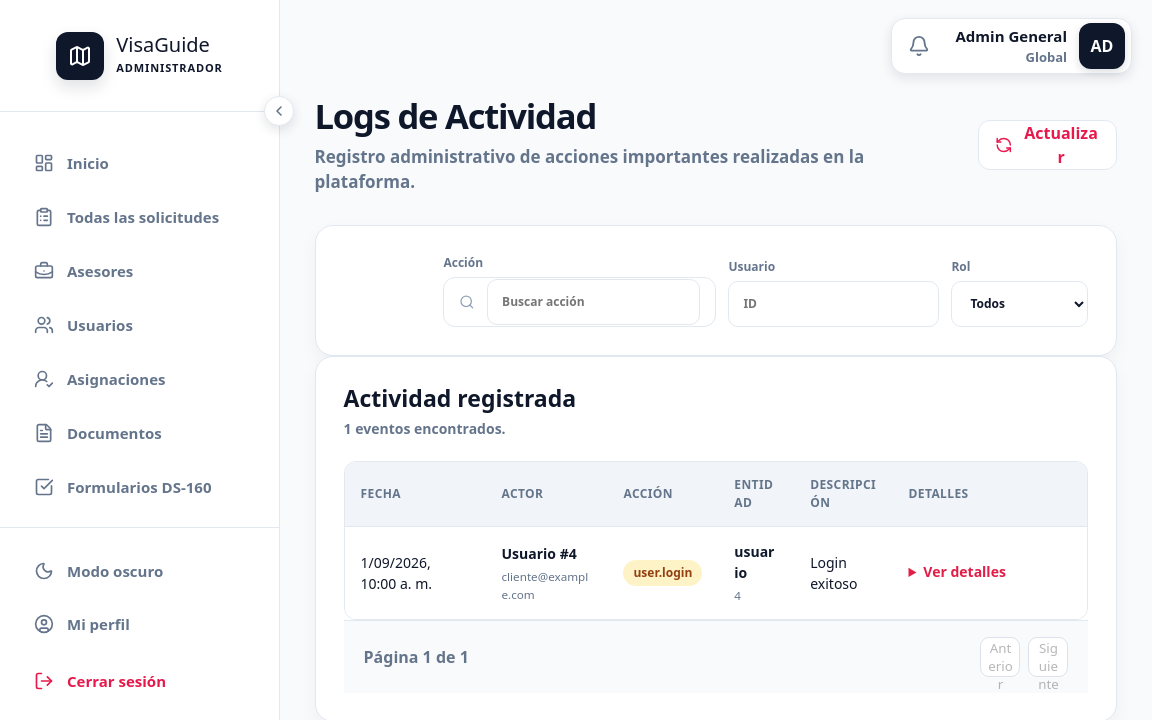
it: panel de administracion › muestra la consulta de logs de actividad
Expected: the heading "Logs de Actividad" is shown, [314, 92, 596, 139]
Expected: the text "user.login" is shown, [624, 560, 702, 586]
What coordinates should you click on to do the following:
click the heading "Ver detalles"
I would click on:
 (965, 572)
Its box is [923, 562, 1006, 581].
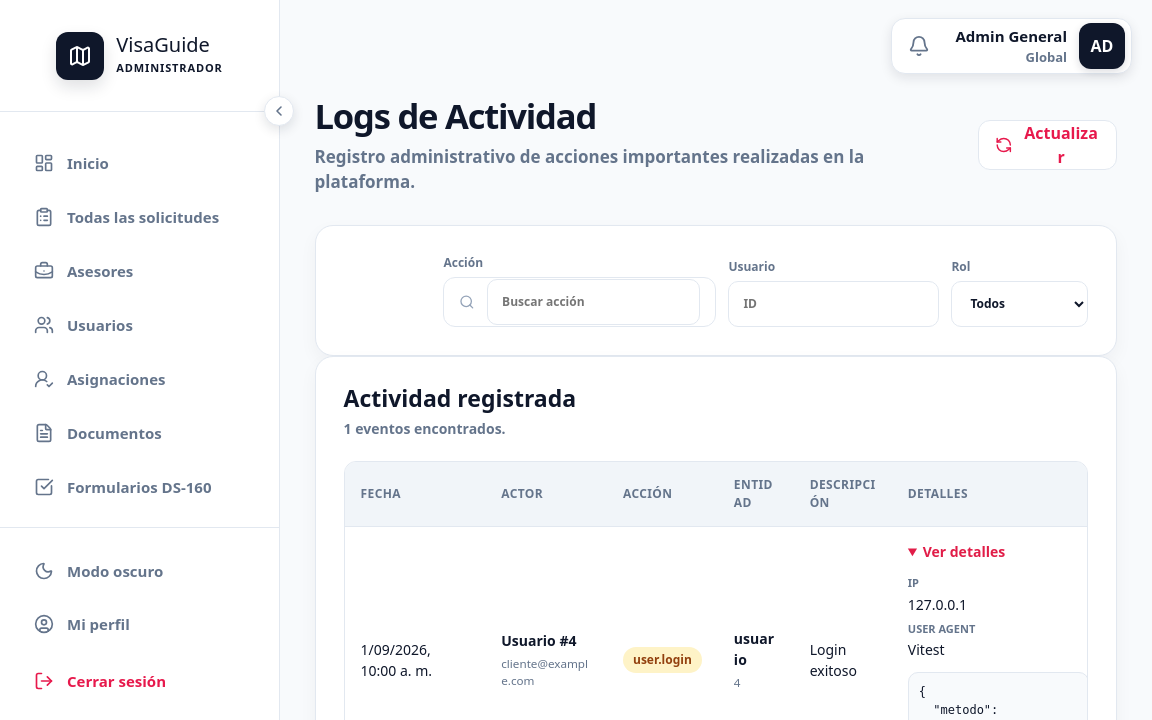
Result: the text "127.0.0.1" is shown at [908, 595, 967, 614]
